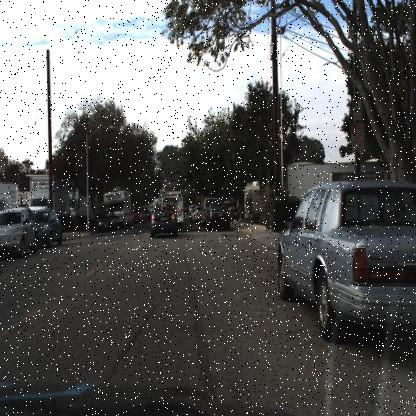car: (263, 159, 415, 375), (272, 176, 416, 342), (0, 199, 40, 267), (142, 196, 181, 244), (35, 206, 63, 254), (203, 197, 233, 235), (159, 186, 184, 228), (203, 198, 231, 234), (113, 190, 133, 230), (92, 206, 116, 234), (96, 208, 116, 236), (172, 187, 185, 227), (188, 204, 205, 226), (130, 202, 144, 223)
truck: (19, 166, 64, 206), (24, 173, 69, 212), (104, 192, 134, 228)
